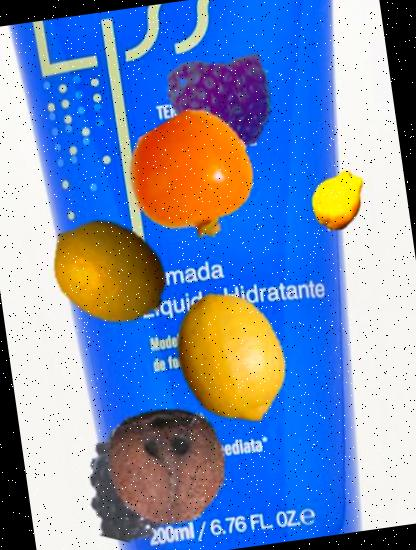Cocos: (94, 392, 240, 539)
Lemon: (155, 284, 308, 436), (40, 202, 180, 343)
Mulberry: (65, 416, 200, 550)
Physalis: (122, 108, 264, 249)
Quince: (302, 164, 373, 236)
Raspberry: (161, 43, 281, 162)
